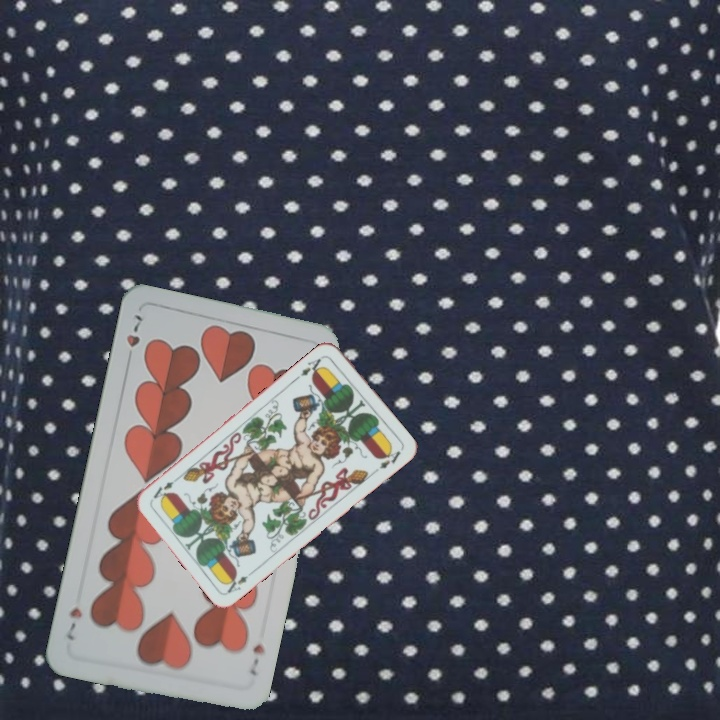EA: (222, 566, 257, 596), (296, 351, 327, 379)
H7: (122, 311, 145, 350), (245, 640, 267, 678)
